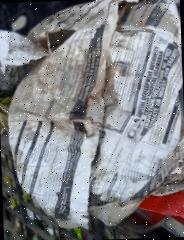paper: (0, 0, 184, 233)
